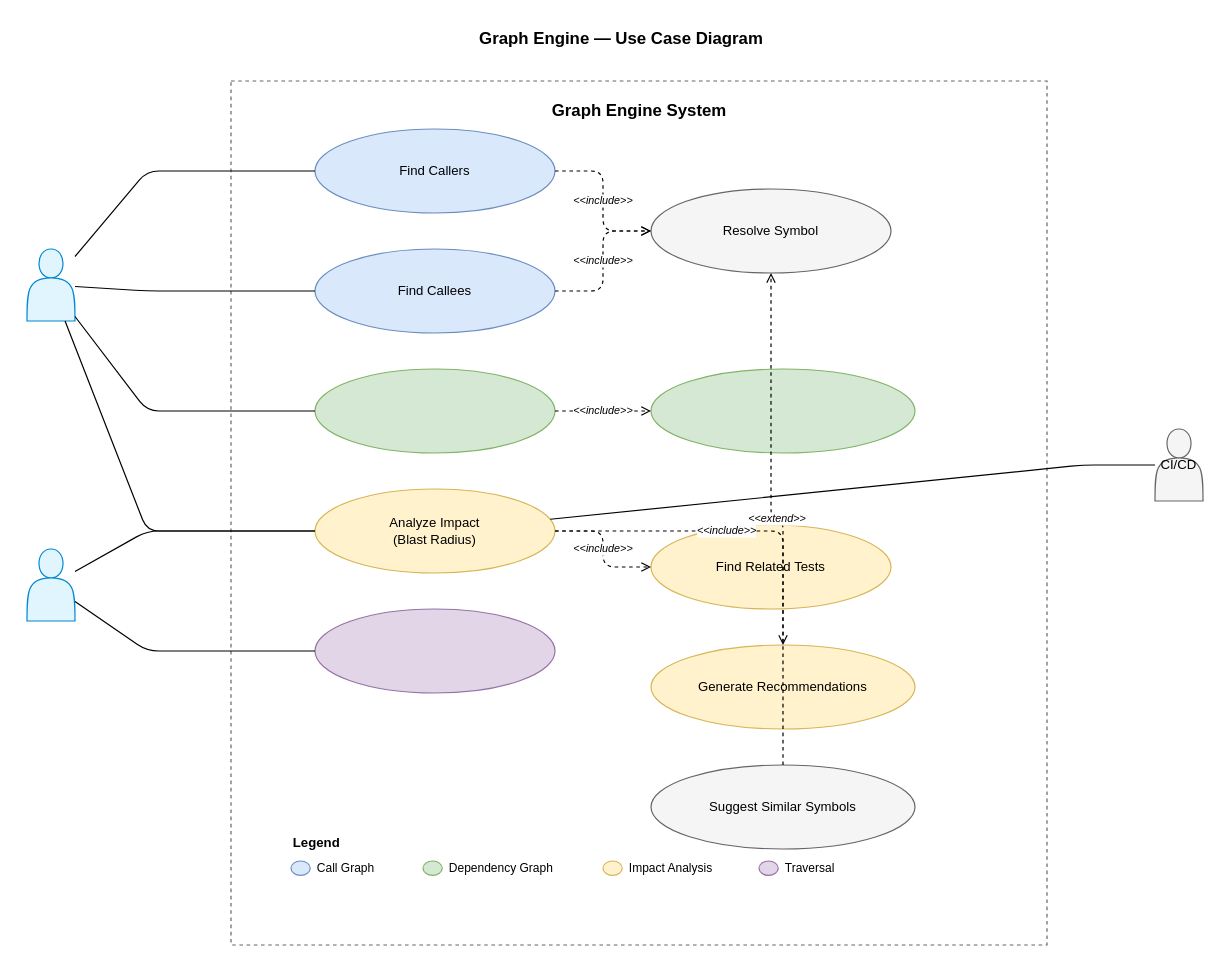
Some shapes in this 1224 by 966 pixel diagram are drawn without their labels. The shapes that lost their labels are listed below. From the top down, each one's box as (x1, y1, x2, y2) in pixels, then its label:
(26, 248, 75, 321): Developer
(314, 368, 555, 453): Query Dependency Graph
(650, 368, 915, 453): Detect Circular Dependencies
(26, 548, 75, 621): AI Agent
(314, 608, 555, 693): Traverse Graph (Custom Filters)
